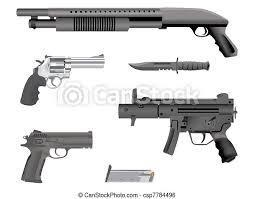Gun: (15, 6, 239, 53), (118, 88, 237, 163)
Knife: (128, 57, 211, 74)
Pistol: (20, 54, 104, 106), (20, 128, 95, 183)
